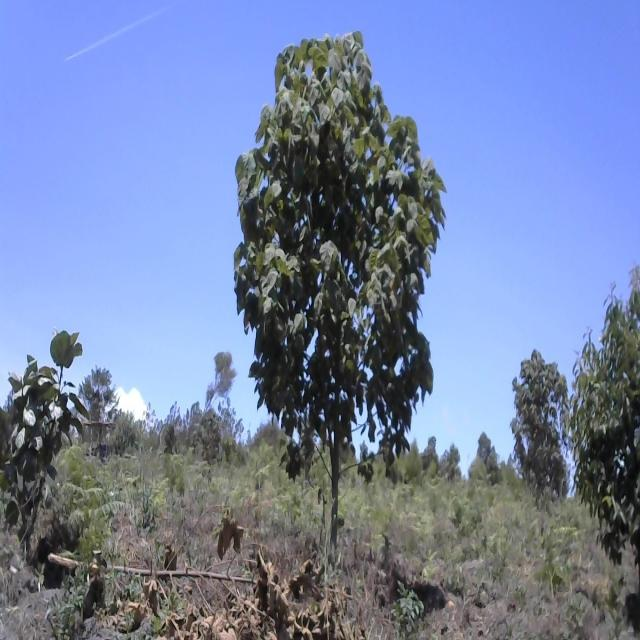Hass Avocado: (571, 249, 640, 571)
other: (233, 5, 449, 545), (0, 316, 97, 538), (512, 345, 576, 503)
